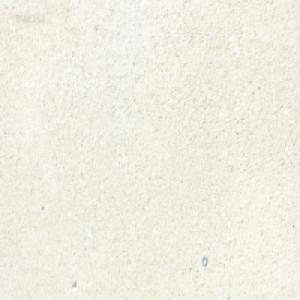Washer: (201, 255, 207, 266)
